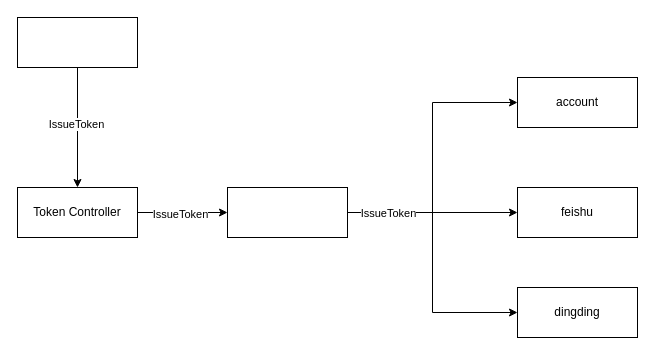
This 655x355 diagram has some shape labels left out. The centre of each missing label's shape, as x and y in pixels:
"Provider" belongs at (x=287, y=212).
"Token Handler" belongs at (x=77, y=42).
